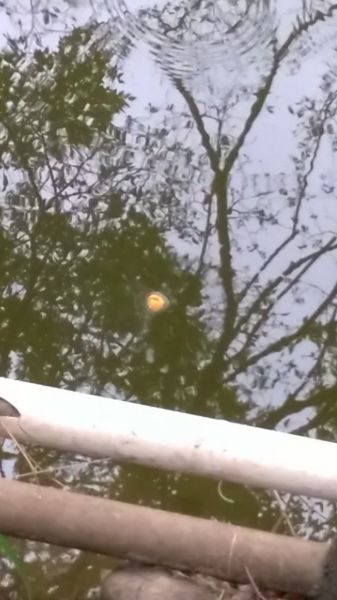eggs: (141, 287, 172, 320)
